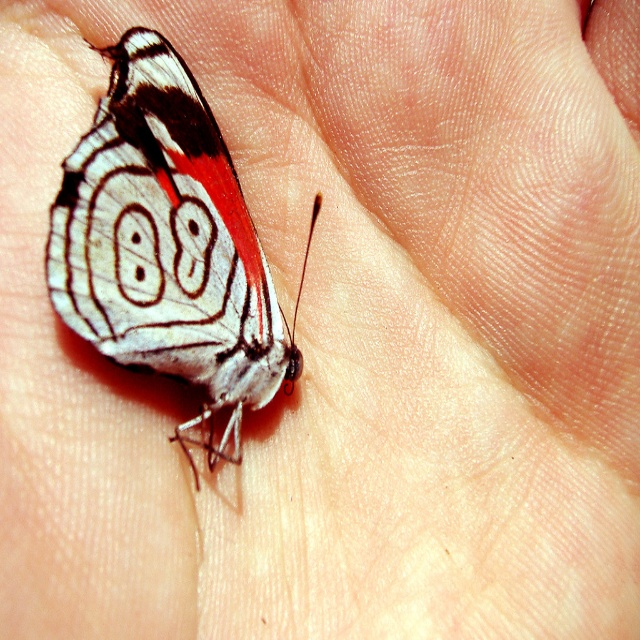Moths and butterflies: (40, 25, 321, 491)
